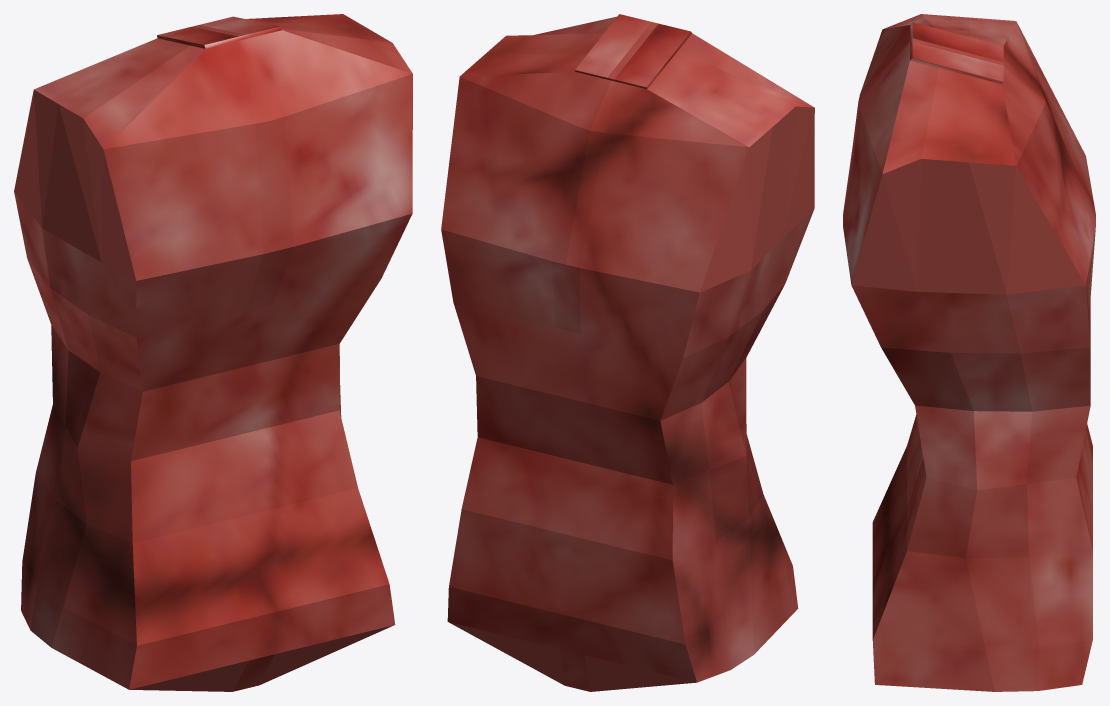
The model's file is GoatMan_Gib1.fbx.
3 renders of one model, left to right at view 1: azimuth 30°, elevation 25°; view 2: azimuth 150°, elevation 25°; view 3: azimuth 270°, elevation 25°, orthographic. The views are drawn at different scales.
Visible parts, largest first — view 1: Body; view 2: Body; view 3: Body.
Boxes of the visible parts, bbox=[...] form: Body: bbox=[14, 14, 412, 691]; Body: bbox=[441, 14, 814, 691]; Body: bbox=[843, 14, 1095, 691].
Size of the model in its own units: 65.03 by 131 by 47.95.
